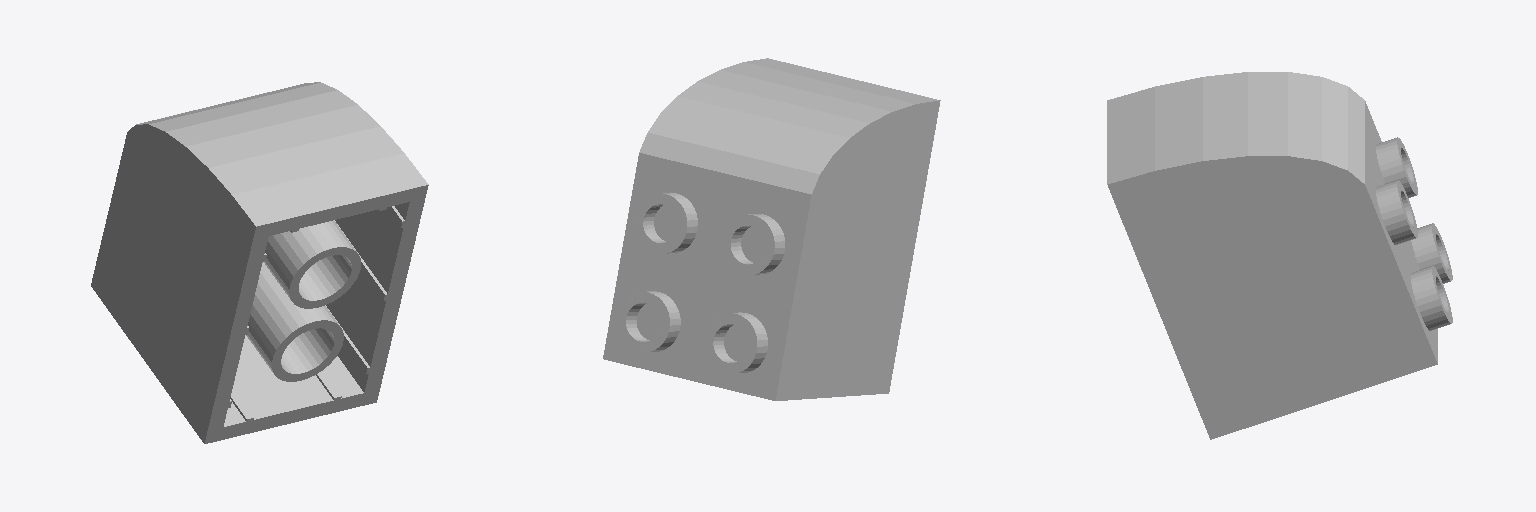
File: duplo4.obj
3 views of the same model, side by side, from view 1: azimuth 30°, elevation 25°; view 2: azimuth 150°, elevation 25°; view 3: azimuth 270°, elevation 25° (orthographic).
Parts seen in each view (by area): view 1: duplo4; view 2: duplo4; view 3: duplo4.
Boxes of the visible parts, box(x1,y1,x2,y2) form: duplo4: box(91, 82, 428, 443); duplo4: box(603, 58, 940, 400); duplo4: box(1107, 72, 1452, 439).
Bounding box in the file's own units: 0.0561 × 0.0882 × 0.0972.